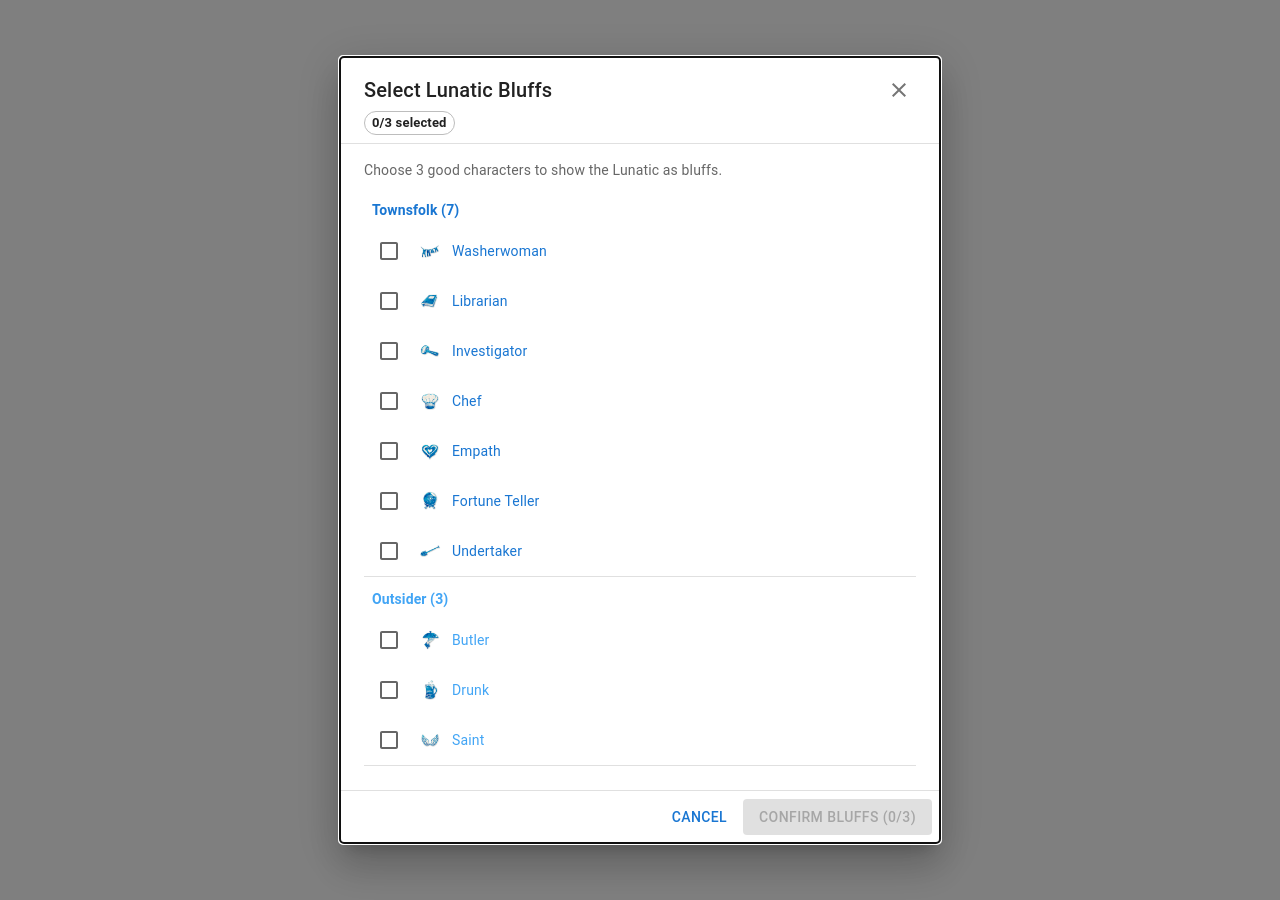
Test case: DemonBluffSelection › lunatic variant › allows selecting 3 bluffs in lunatic variant
Note: Select from in-play characters (which are now available)
Step 1. Click the button with test id "bluff-toggle-washerwoman" → (462, 251), box [377,237,547,265]
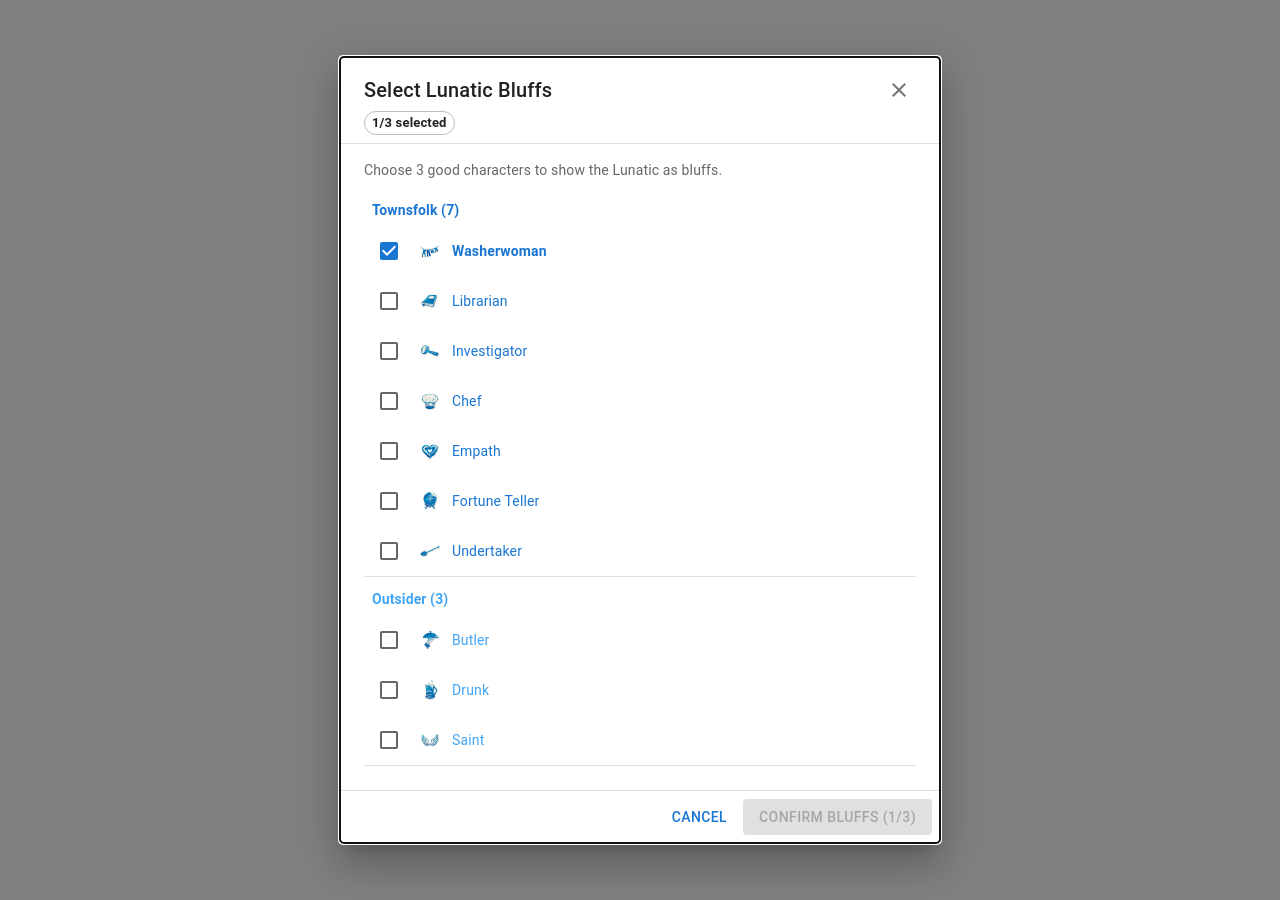
Step 2. Click the button with test id "bluff-toggle-librarian" → (442, 301), box [377,287,508,315]
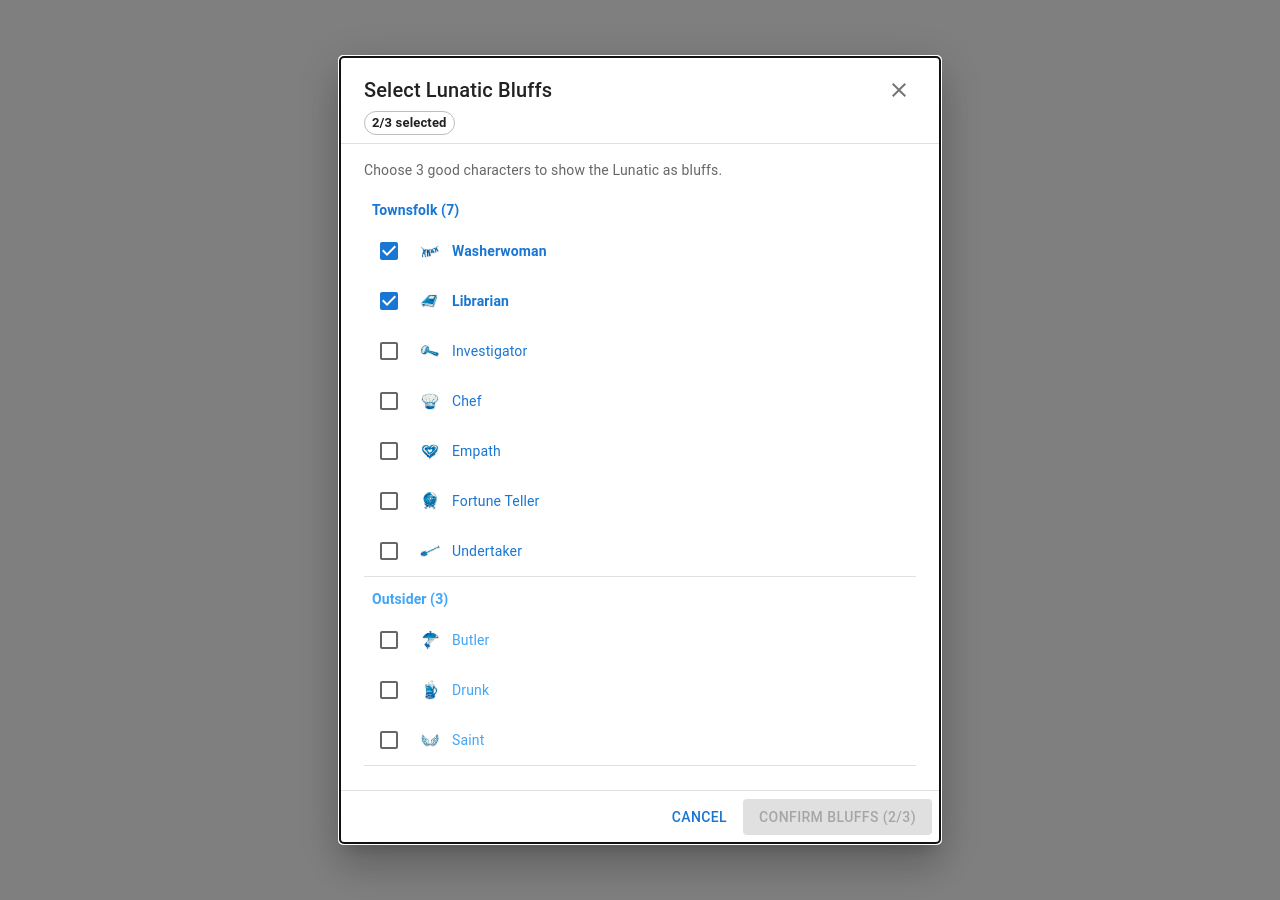
Step 3. Click the button with test id "bluff-toggle-fortuneteller" → (458, 501), box [377,487,540,515]
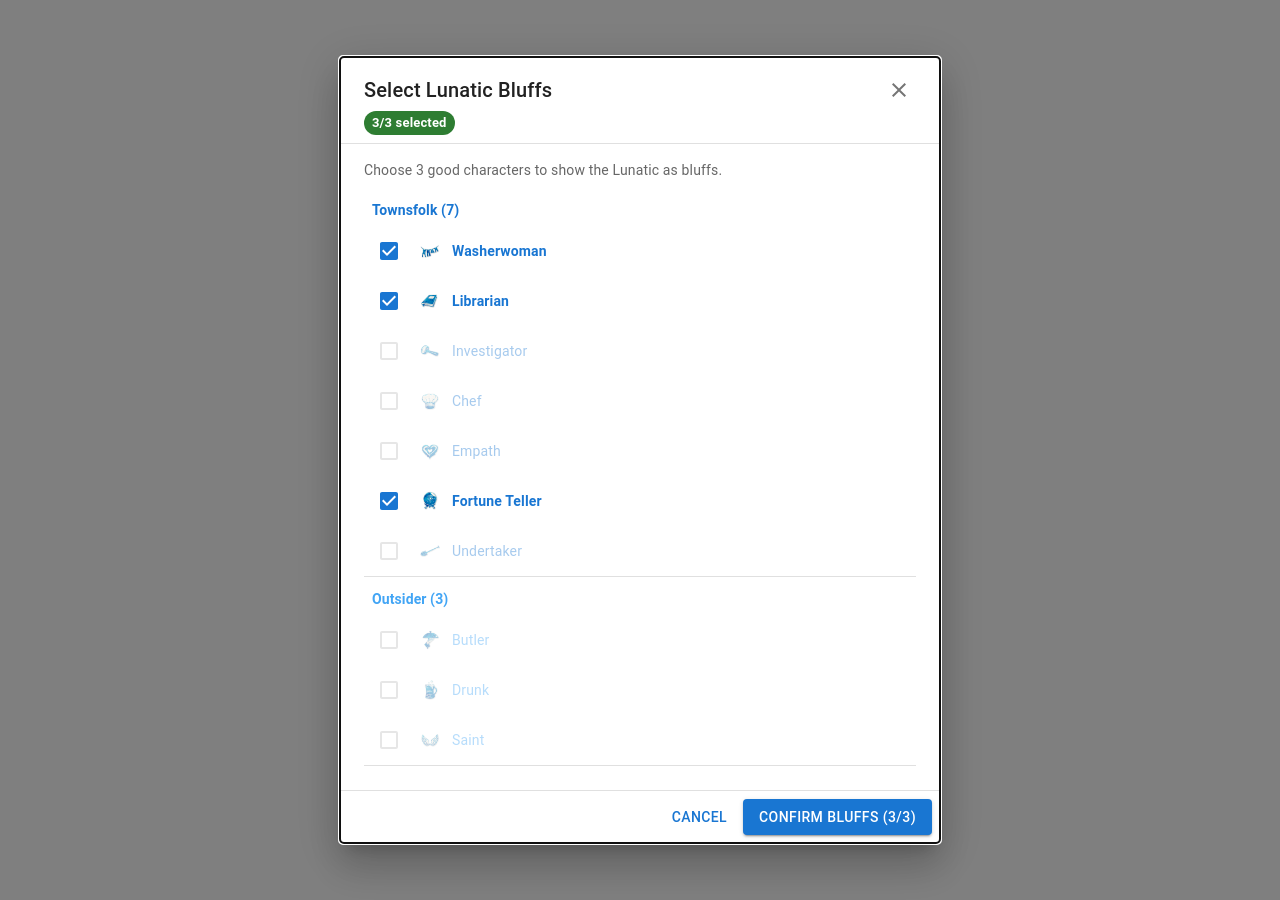
Expected: the element with test id "bluff-count-chip" shows "3/3", [372,115,446,130]
Expected: the button with test id "confirm-bluffs" is enabled, [743,799,932,835]
